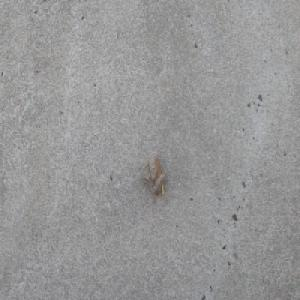Rock: (138, 150, 165, 197)
